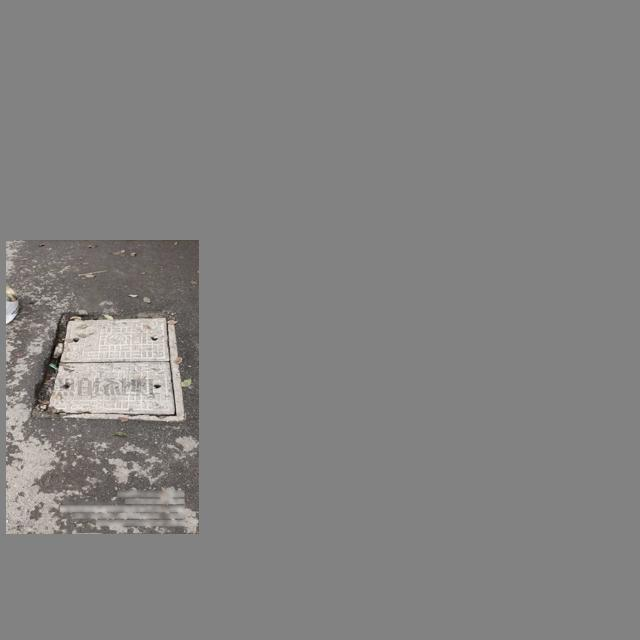circle: (31, 313, 183, 420)
